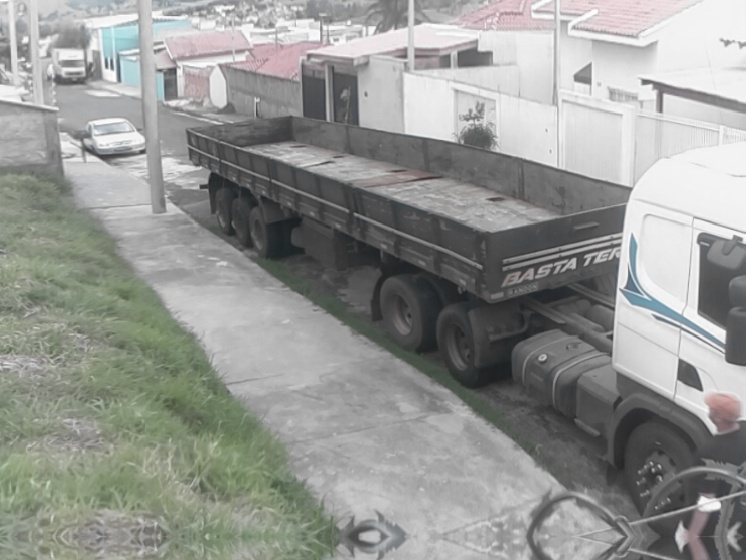person: (669, 390, 746, 560)
